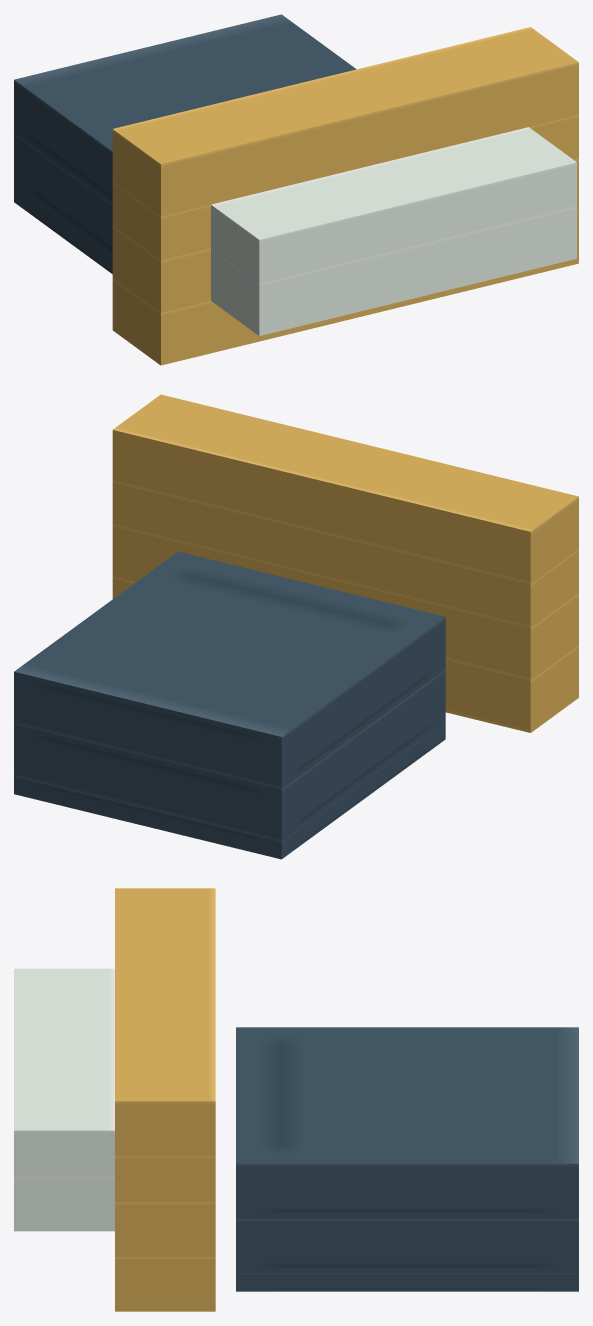
File: sc_mount_repulsor_beam.obj
The picture shows the model from 3 angles, top to bottom: view 1: azimuth 30°, elevation 25°; view 2: azimuth 150°, elevation 25°; view 3: azimuth 270°, elevation 25°; orthographic projection. The views are drawn at different scales.
Bounding box in the file's own units: 5 × 2.5 × 5.6.
Materials: 1 (1 with a texture image).
